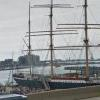Boat: (11, 61, 90, 94)
